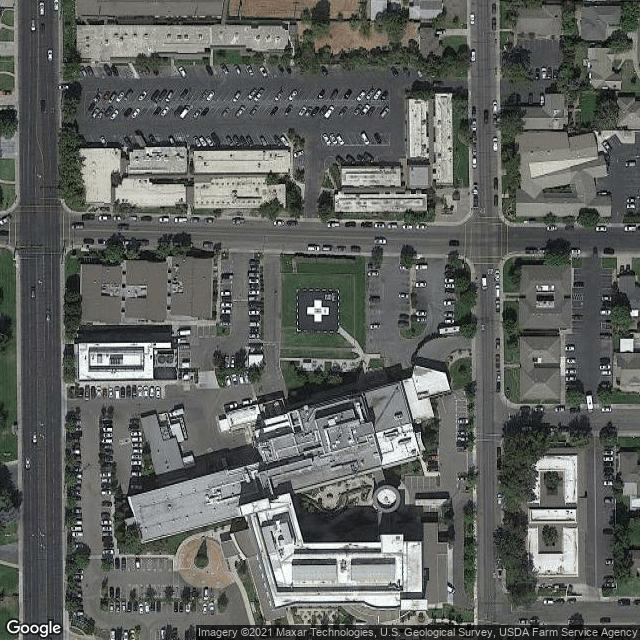Helipad: (300, 290, 336, 330)
